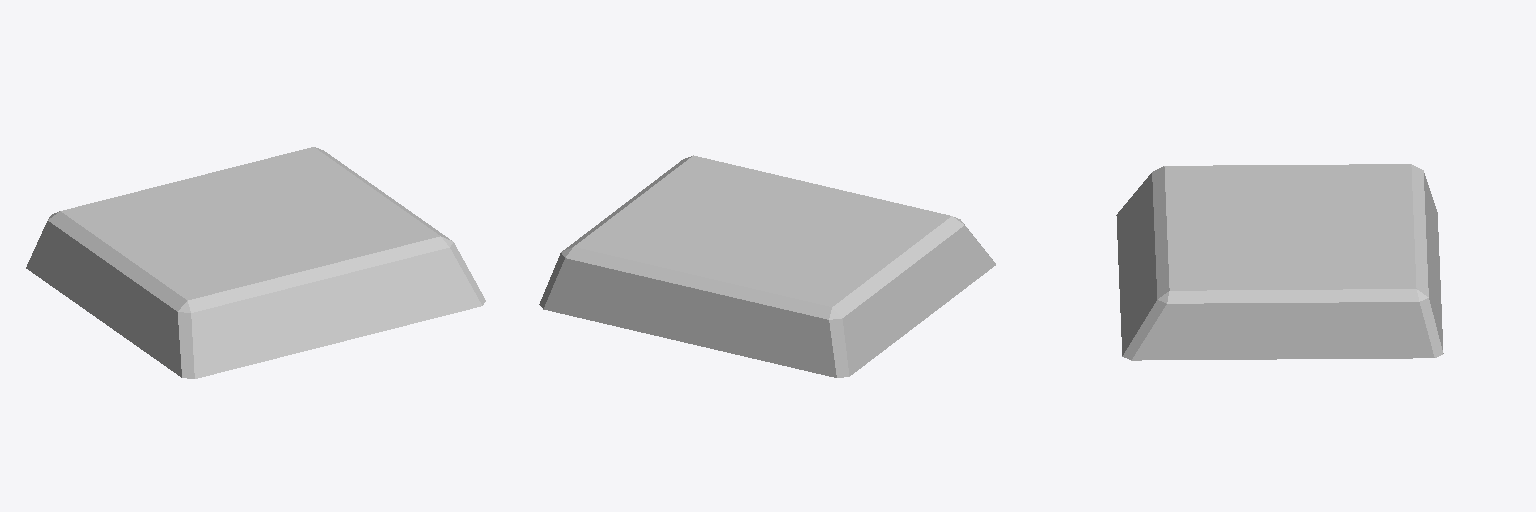
File: original-59.obj
3 renders of one model, left to right at view 1: azimuth 30°, elevation 25°; view 2: azimuth 150°, elevation 25°; view 3: azimuth 270°, elevation 25°, orthographic.
Visible parts, largest first — view 1: mesh58/mesh58-geometry#mesh58-geometry; view 2: mesh58/mesh58-geometry#mesh58-geometry; view 3: mesh58/mesh58-geometry#mesh58-geometry.
Boxes of the visible parts, x1=… form: mesh58/mesh58-geometry#mesh58-geometry: x1=26, y1=147, x2=485, y2=378; mesh58/mesh58-geometry#mesh58-geometry: x1=539, y1=155, x2=995, y2=377; mesh58/mesh58-geometry#mesh58-geometry: x1=1116, y1=164, x2=1443, y2=360.
Bounding box in the file's own units: 0.0691 × 0.0121 × 0.0628.